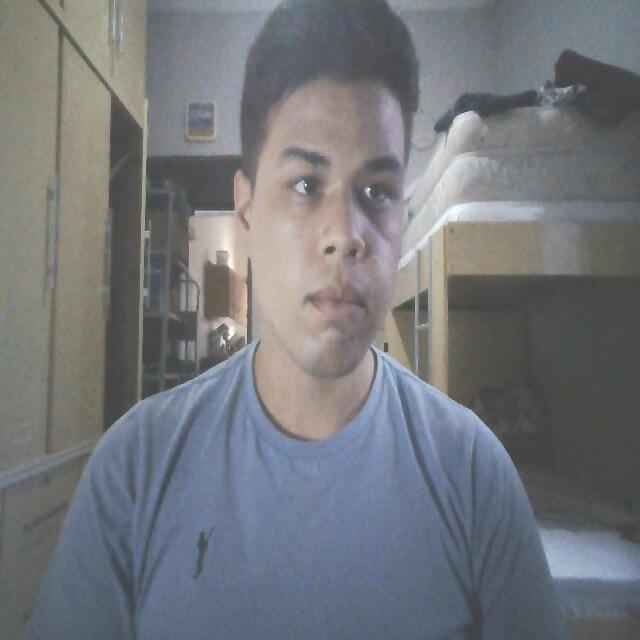acordado: (237, 40, 413, 388)
